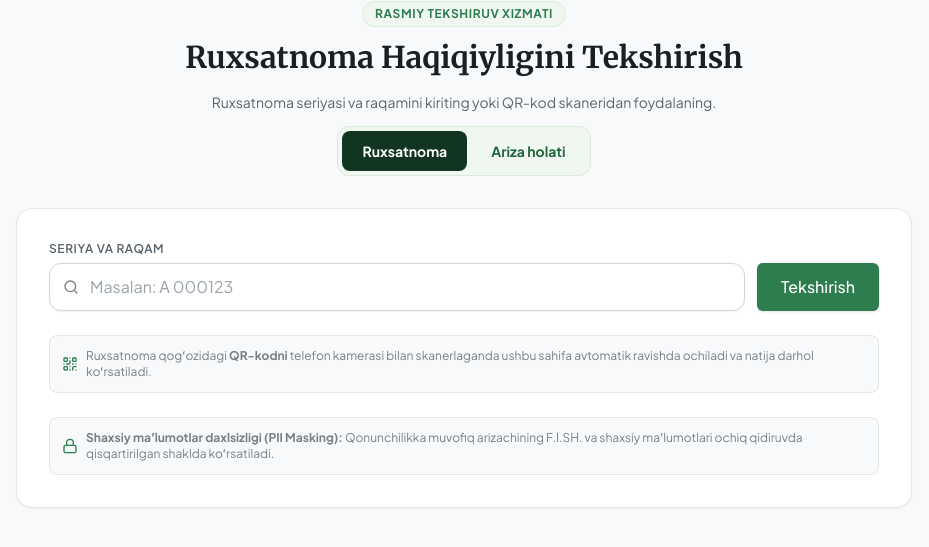
VerifyPage — one box for the permit number › refuses a number with no series on the spot instead of answering «not found»
Type "000123" into the field labelled "Seriya va raqam".
click(397, 287); type("000123")  # box [49,263,745,311]
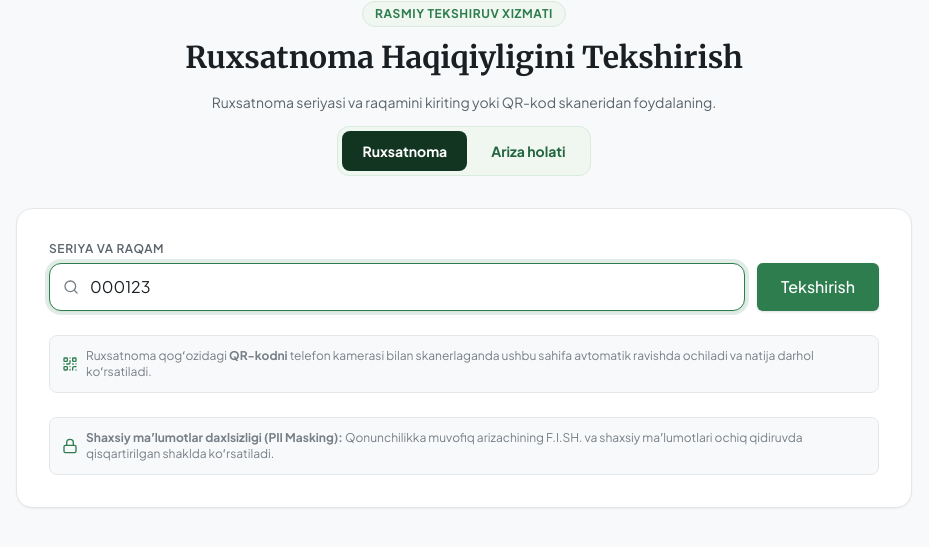
Click the button named "tekshirish".
click(818, 287)  # box [757,263,879,311]
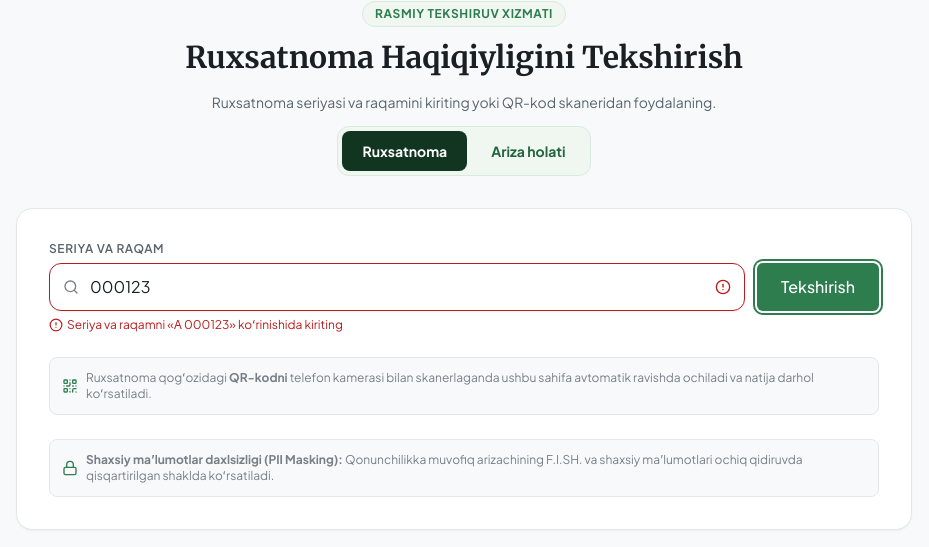
Now the text "Seriya va raqamni «А 000123» koʻrinishida kiriting" is shown, box [67,317,343,333]
